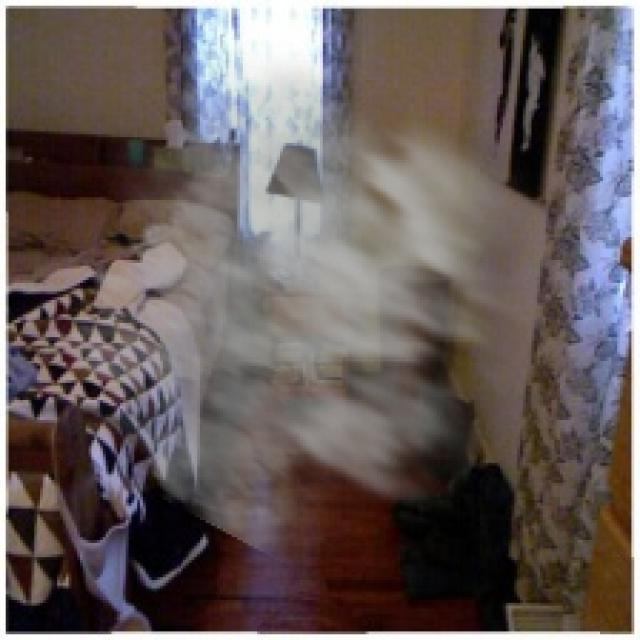Smoke: (52, 40, 598, 580)
